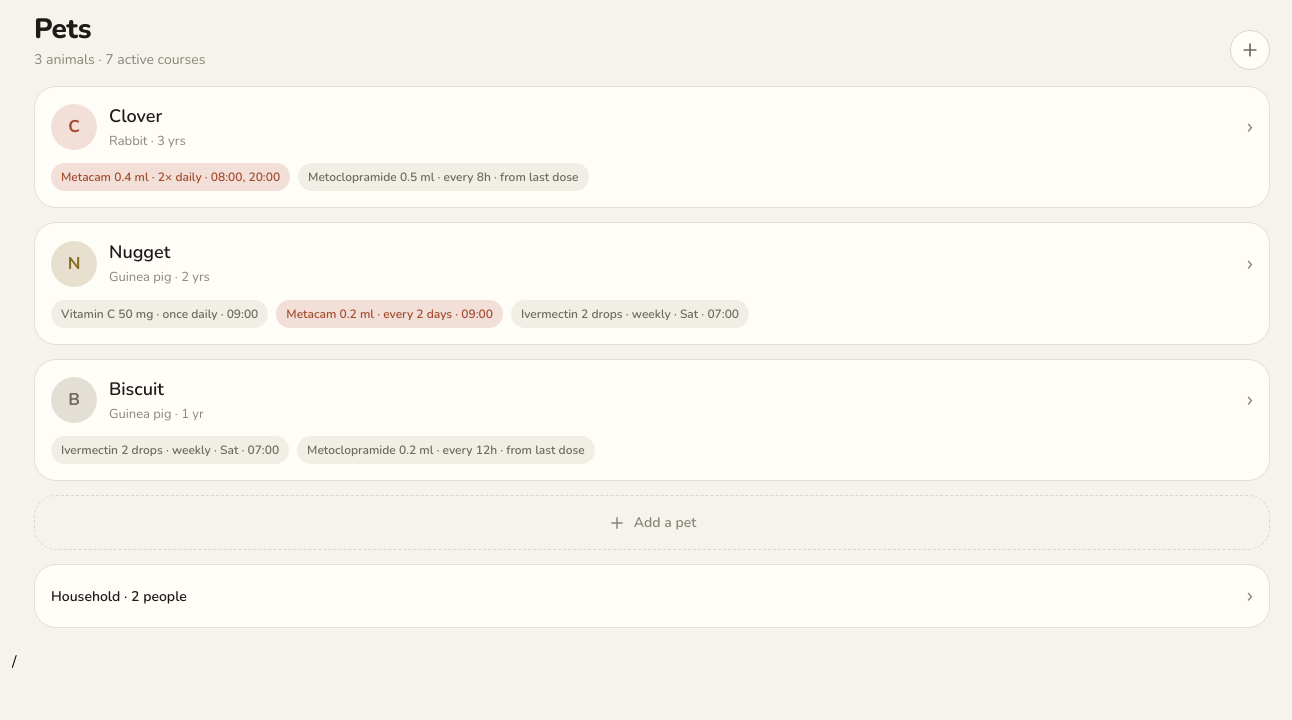
it: PetsPage › navigates to /household when the Household row is activated
Expected: the text "Clover" is shown, [109,104,162,128]
Click the button with aria-label "Household, 2 people".
click(119, 596)  # box [34,564,1270,628]
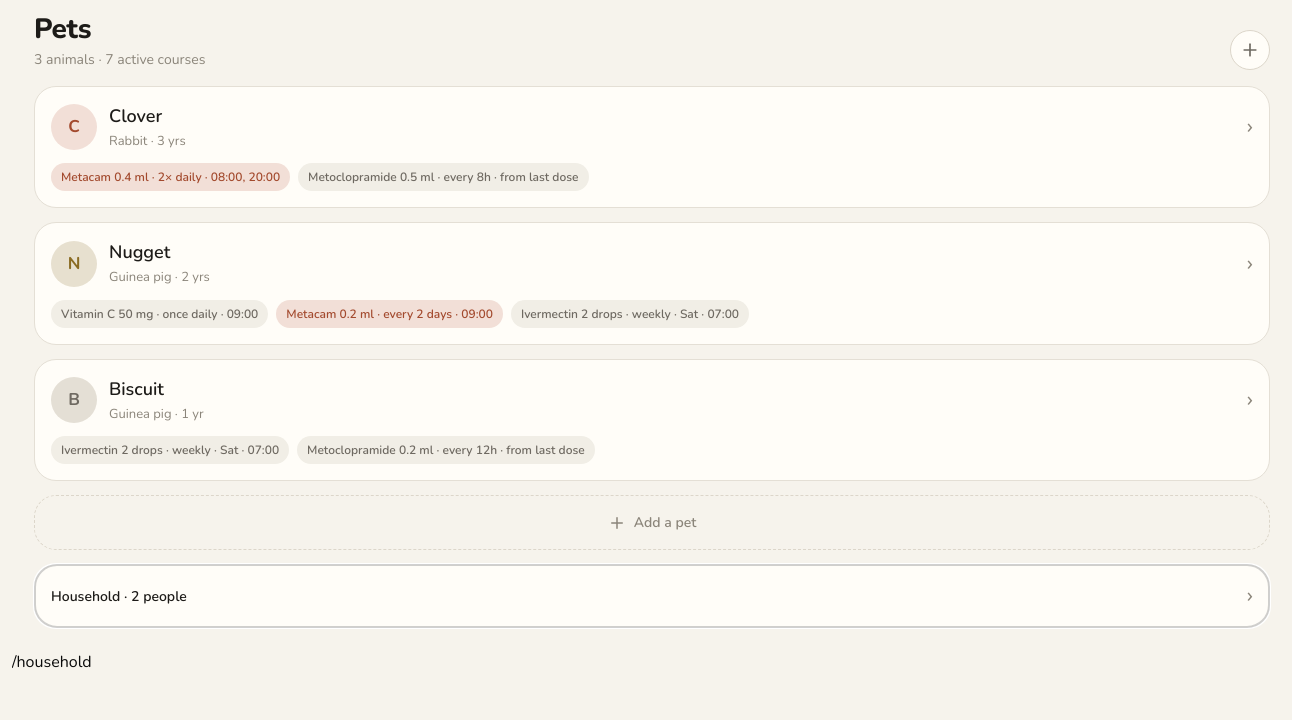
Result: the text with test id "pathname" reads "/household" at [12,651,92,673]
